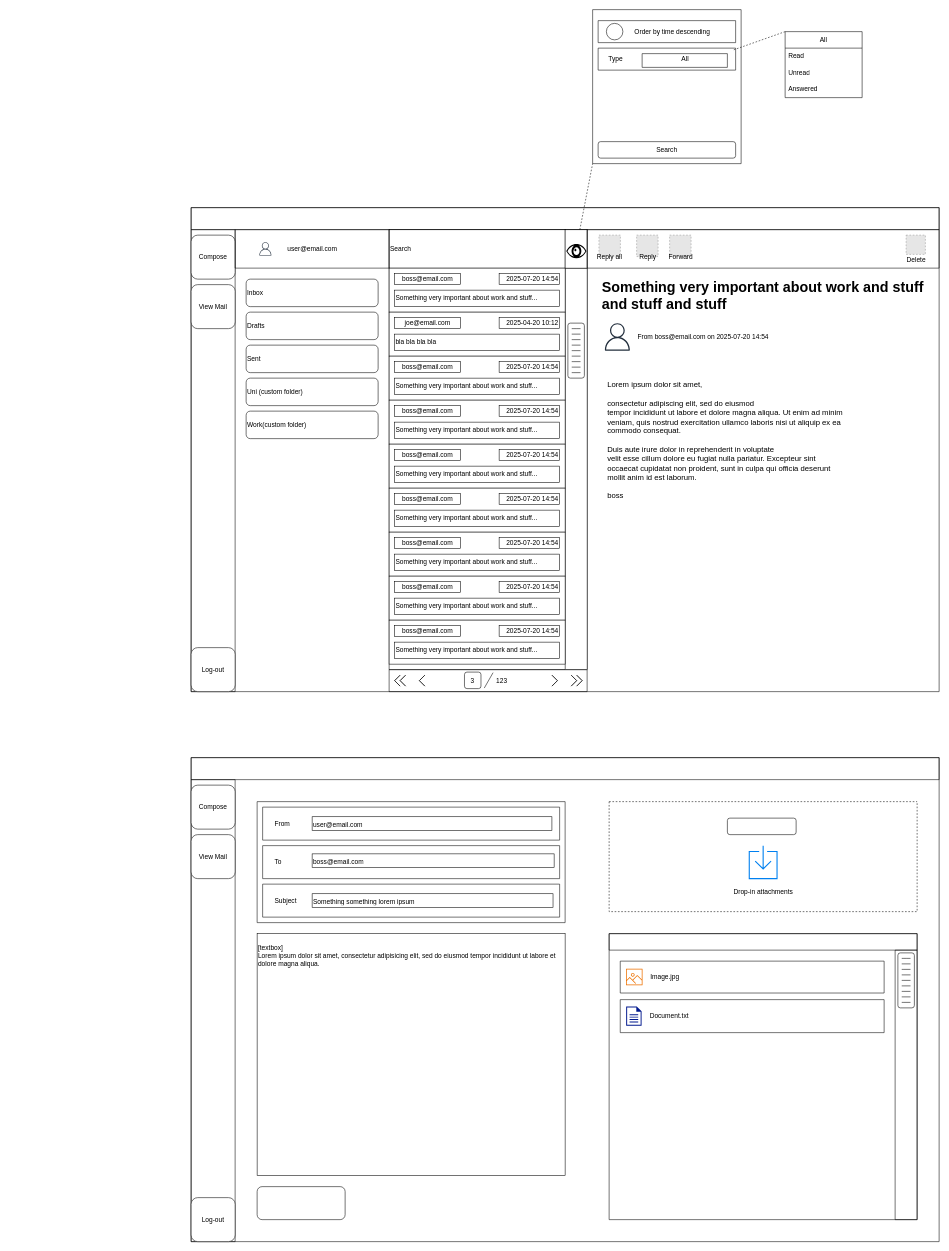
This 949x1251 diagram has some shape labels left out. Grey dashed boxes stand in for pictures. Each missing label, with the centre of its shape:
"Attachments" belongs at [763,941].
"Select File From Disk" belongs at [761,826].
"Send" belongs at [301,1203].
